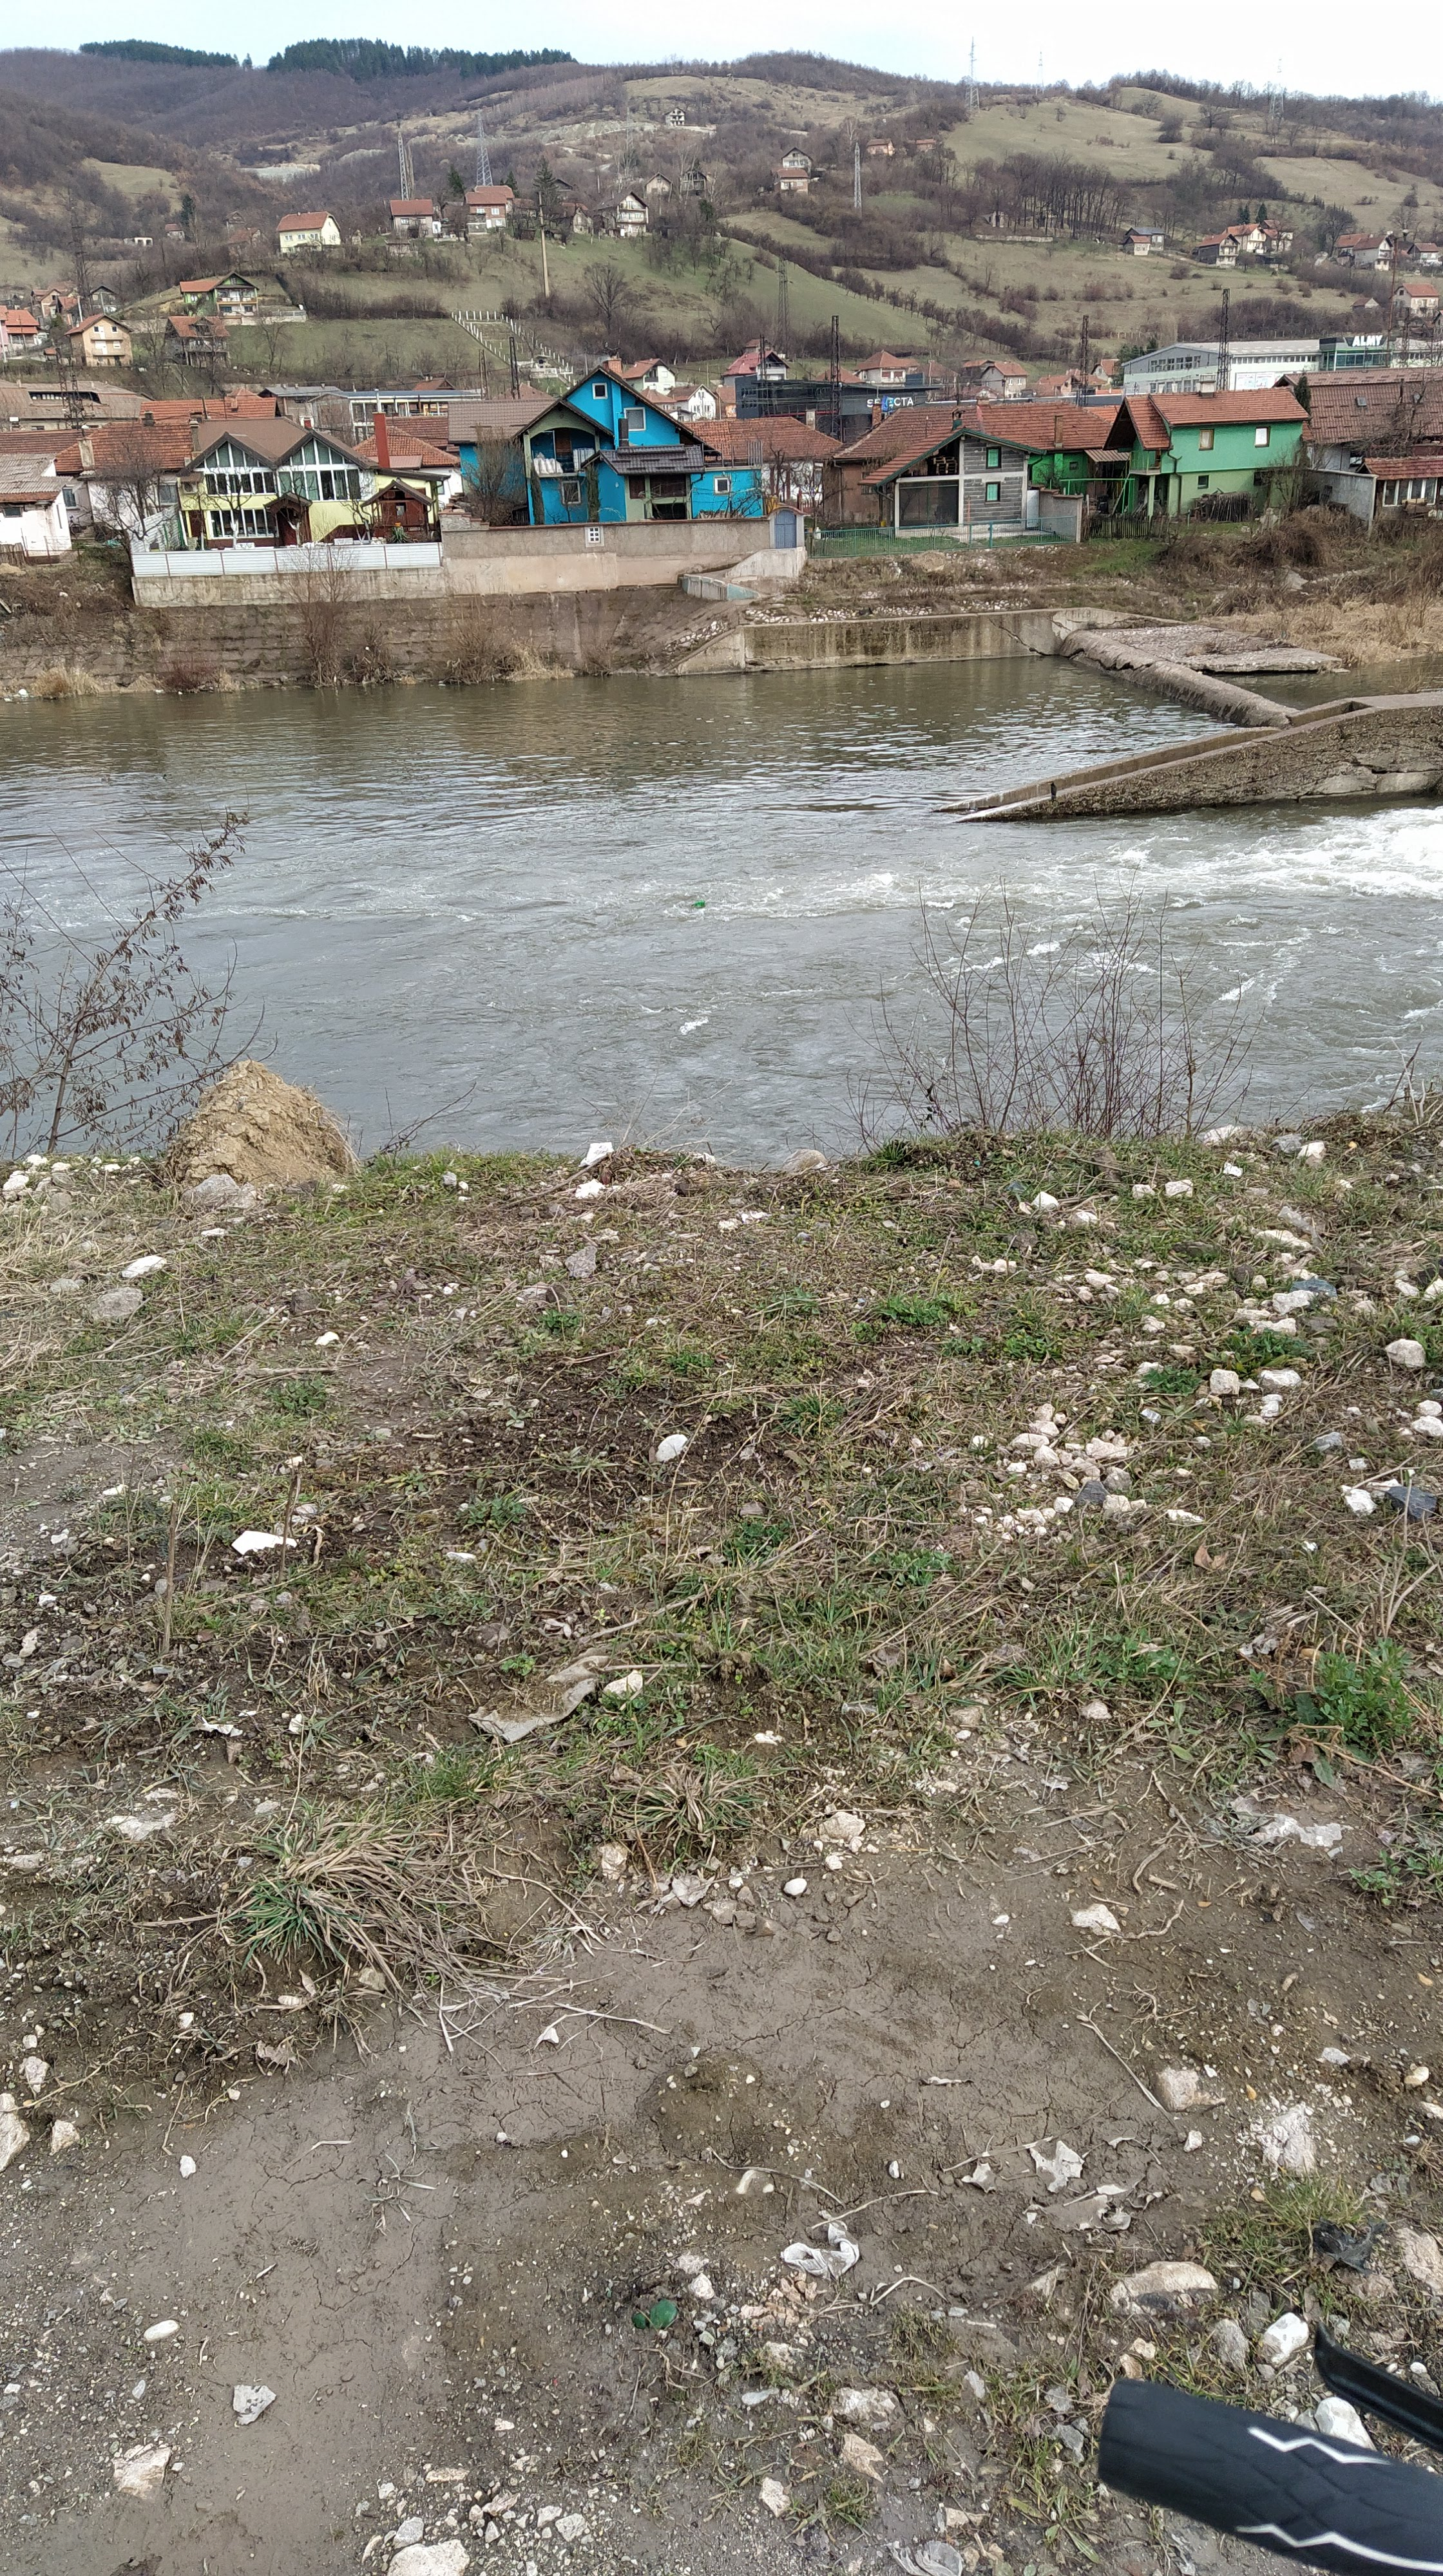Plastic Bottle: (691, 901, 705, 908), (156, 688, 163, 694)
